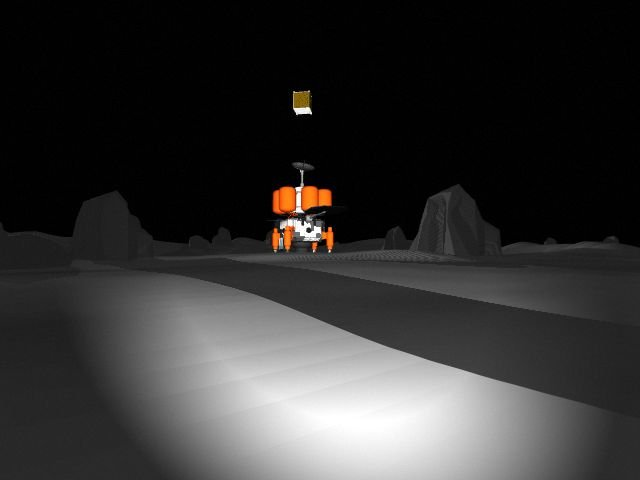cubesat: (285, 81, 325, 119)
